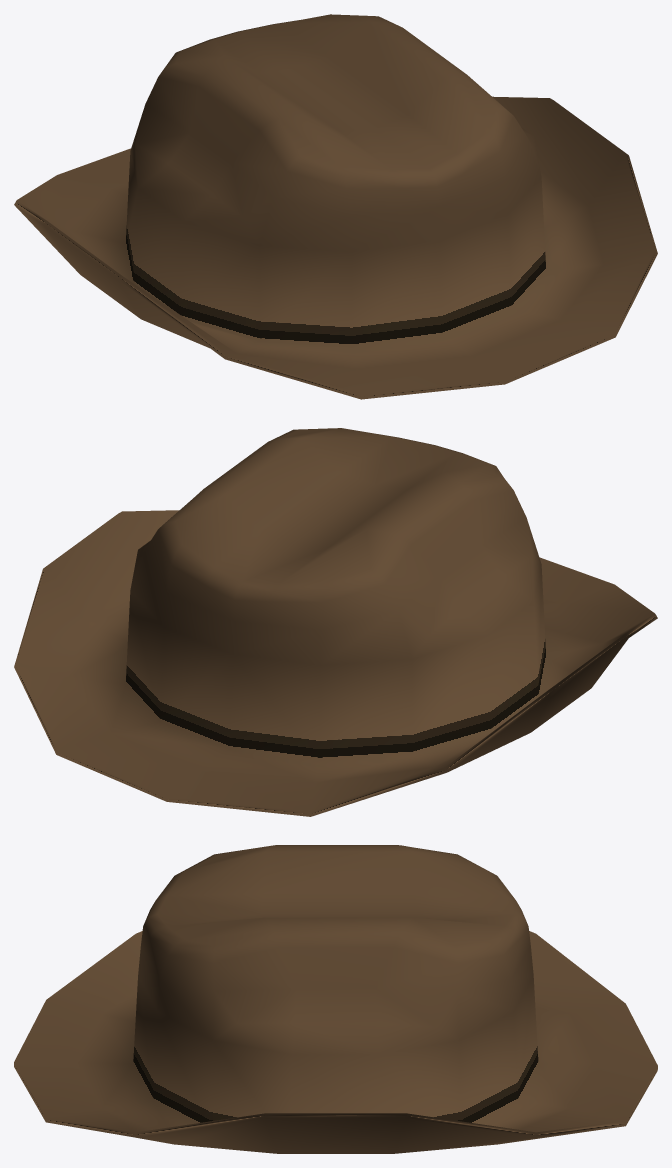
File: cowboy.glb
3 views of the same model, one above another, from view 1: azimuth 30°, elevation 25°; view 2: azimuth 150°, elevation 25°; view 3: azimuth 270°, elevation 25° (orthographic). The views are drawn at different scales.
Parts seen in each view (by area): view 1: Brown Cowboy Hat; view 2: Brown Cowboy Hat; view 3: Brown Cowboy Hat.
Boxes of the visible parts, left/top/right/bottom form: Brown Cowboy Hat: left=14, top=14, right=657, bottom=399; Brown Cowboy Hat: left=14, top=428, right=657, bottom=816; Brown Cowboy Hat: left=14, top=845, right=657, bottom=1153.
Bounding box in the file's own units: 1.76 × 0.6444 × 2.02.
1 material, 1 textured.
